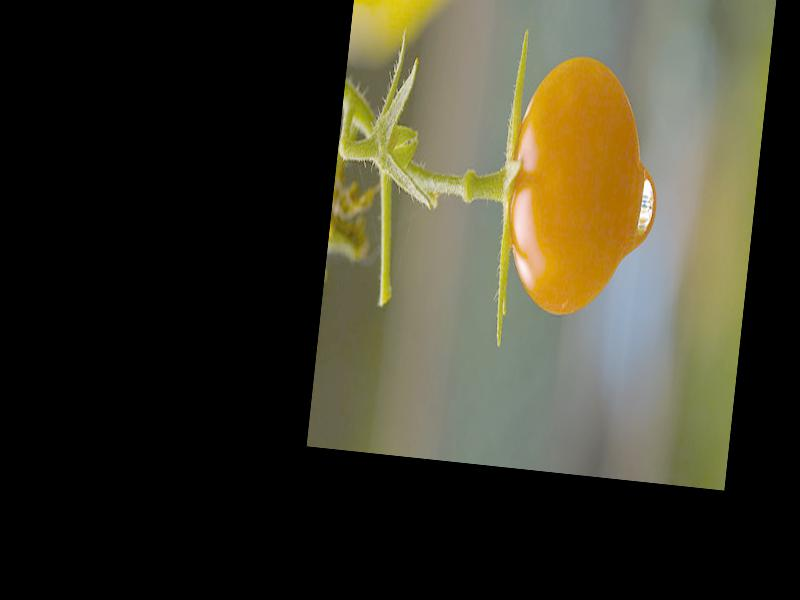Tomato: (497, 52, 651, 324)
